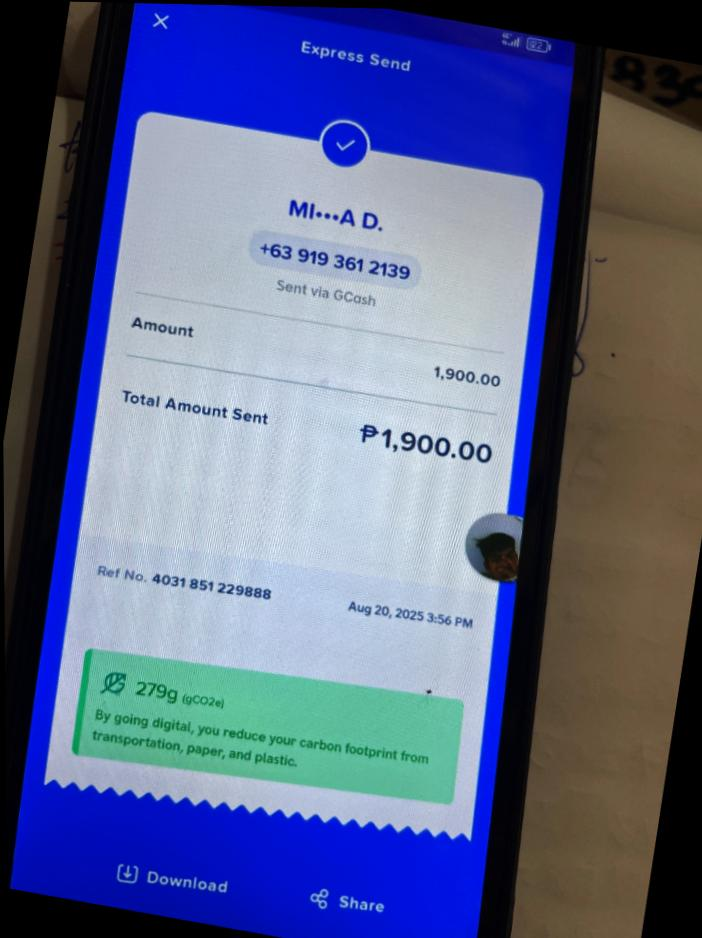Receipt: (14, 3, 572, 938)
